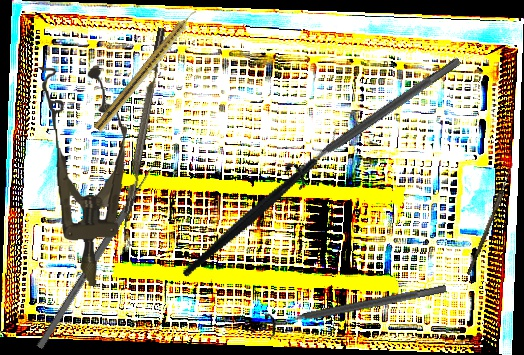Chopper: (153, 126, 369, 279), (116, 27, 176, 247)
Fixation Ring: (282, 48, 469, 191), (263, 274, 450, 341)
Handpiece: (93, 6, 201, 135)
Pusher: (36, 156, 161, 350)
Speculum: (37, 62, 135, 289)
Surgical Spoon: (466, 161, 516, 277)
